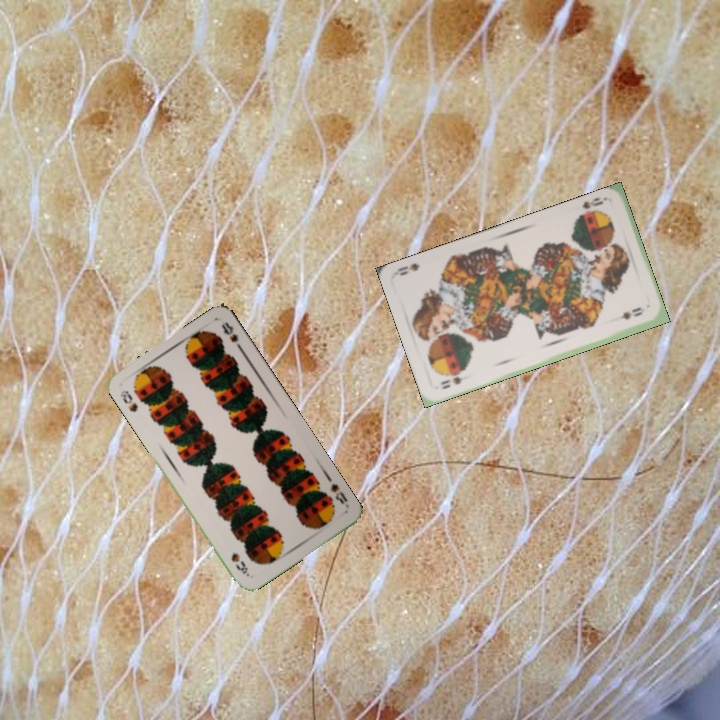S8: (327, 479, 351, 510), (116, 386, 140, 415)
SO: (573, 193, 610, 221), (437, 372, 465, 392)
